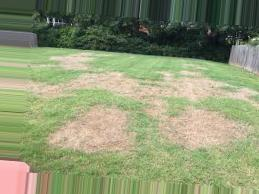patch: (90, 121, 118, 148), (186, 115, 215, 136), (182, 77, 205, 94), (114, 76, 134, 95), (57, 129, 85, 142), (223, 122, 241, 137), (168, 123, 186, 138), (91, 78, 111, 90), (18, 82, 35, 94), (144, 88, 161, 99), (165, 85, 176, 95), (147, 105, 157, 116), (106, 108, 120, 115)
